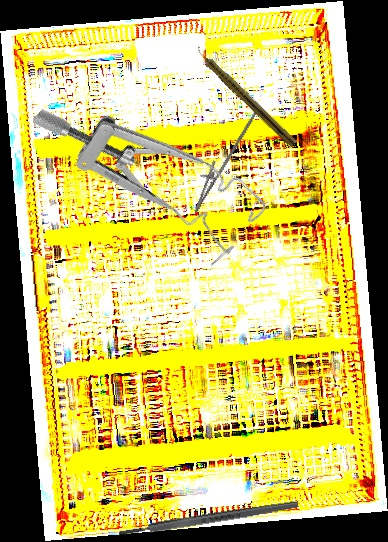Handpiece: (192, 44, 299, 148)
Needle Holder: (185, 99, 259, 220)
Scalpel Handle: (117, 499, 300, 539)
Speculum: (29, 47, 272, 283)
